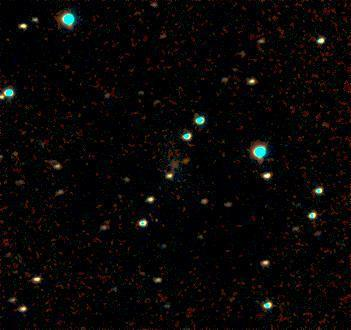star: (172, 143, 202, 173)
